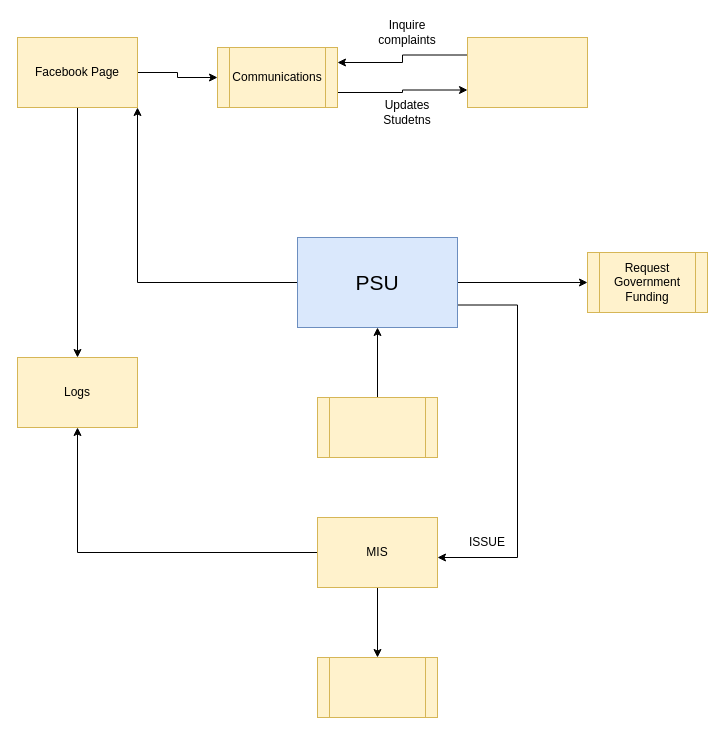
This 725x735 diagram has some shape labels left out. The shapes that lost their labels are listed below. From the top down, each one's centre as x and y in pixels, then its label:
point 527,72: Enrollees
point 377,427: General reports
point 377,687: Implement software/Hardware Update
